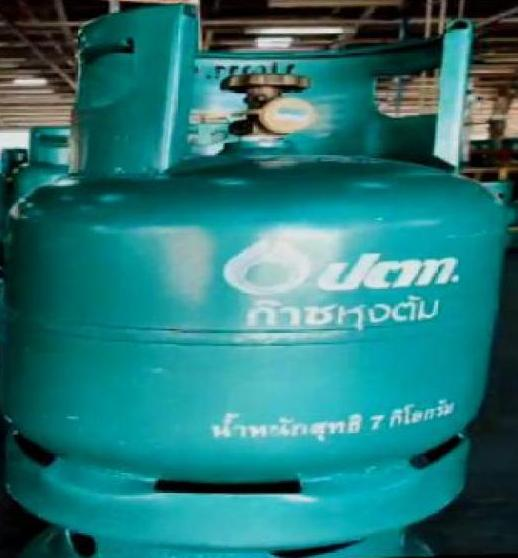cylinder: (1, 0, 518, 558)
